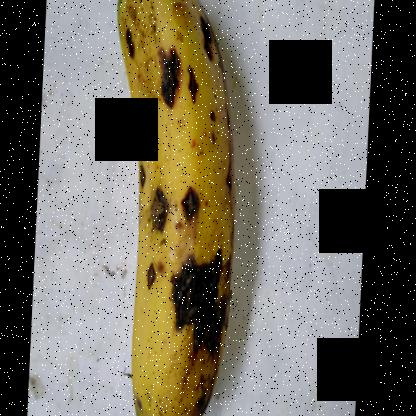ripe: (102, 1, 247, 415)
rotten: (151, 238, 257, 389), (148, 36, 195, 124), (188, 13, 225, 68), (175, 180, 205, 242), (144, 182, 170, 245)
